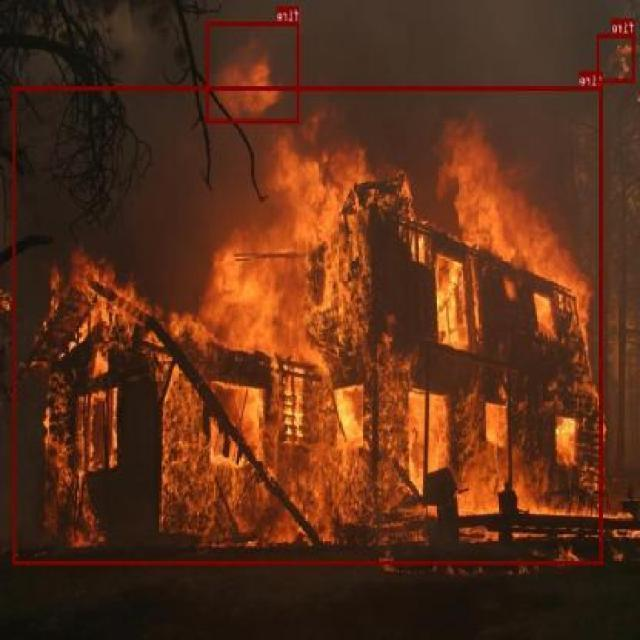Fire: (10, 115, 588, 578), (194, 55, 282, 130)
Smoke: (27, 0, 635, 448)
